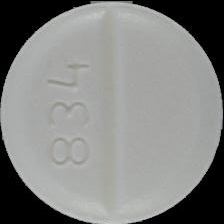21695-262: (0, 0, 224, 224)
